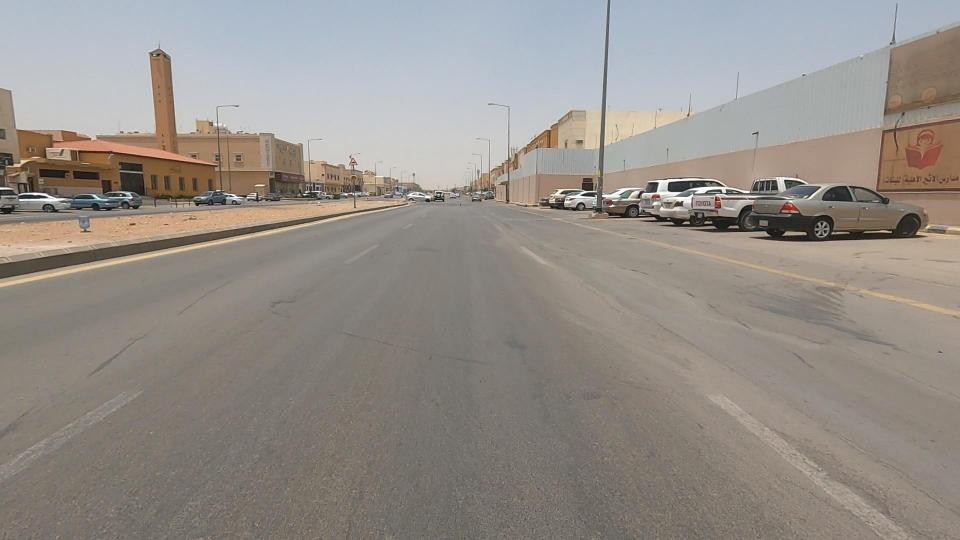BAD_BILLBOARD: (816, 3, 960, 146), (830, 85, 960, 230)
